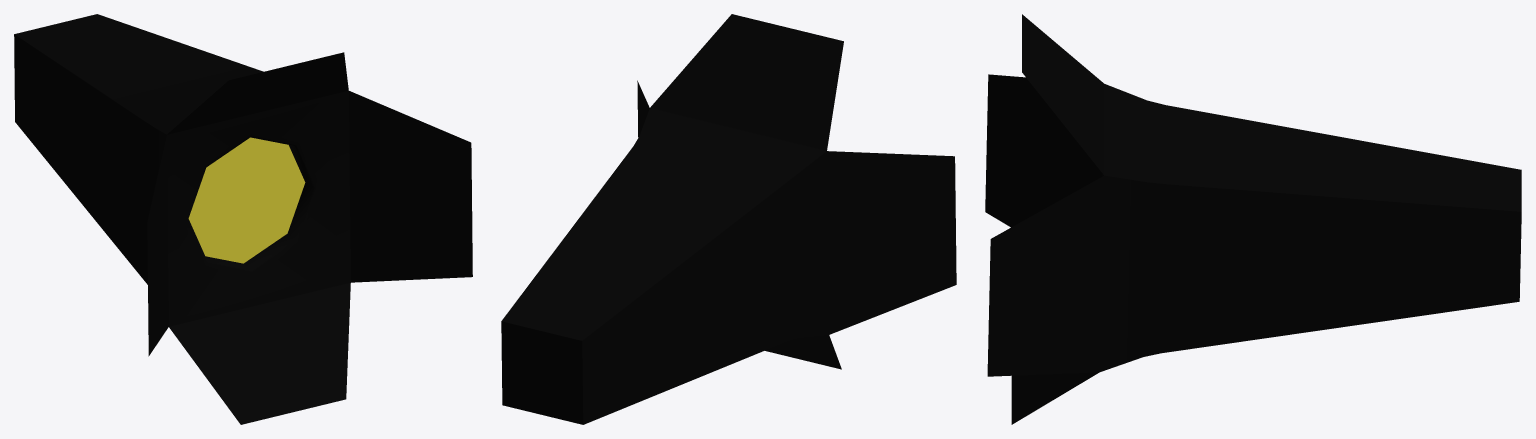
The model's file is SpotLight (2).fbx.
3 renders of one model, left to right at view 1: azimuth 30°, elevation 25°; view 2: azimuth 150°, elevation 25°; view 3: azimuth 270°, elevation 25°, orthographic. The views are drawn at different scales.
Visible parts, largest first — view 1: Light; view 2: Light; view 3: Light.
Part boxes in pixels (box(x1,y1,x2,y2)): Light: box(14, 14, 472, 424); Light: box(501, 14, 956, 424); Light: box(985, 14, 1521, 424).
Bounding box in the file's own units: 0.8396 × 0.8455 × 1.16.
